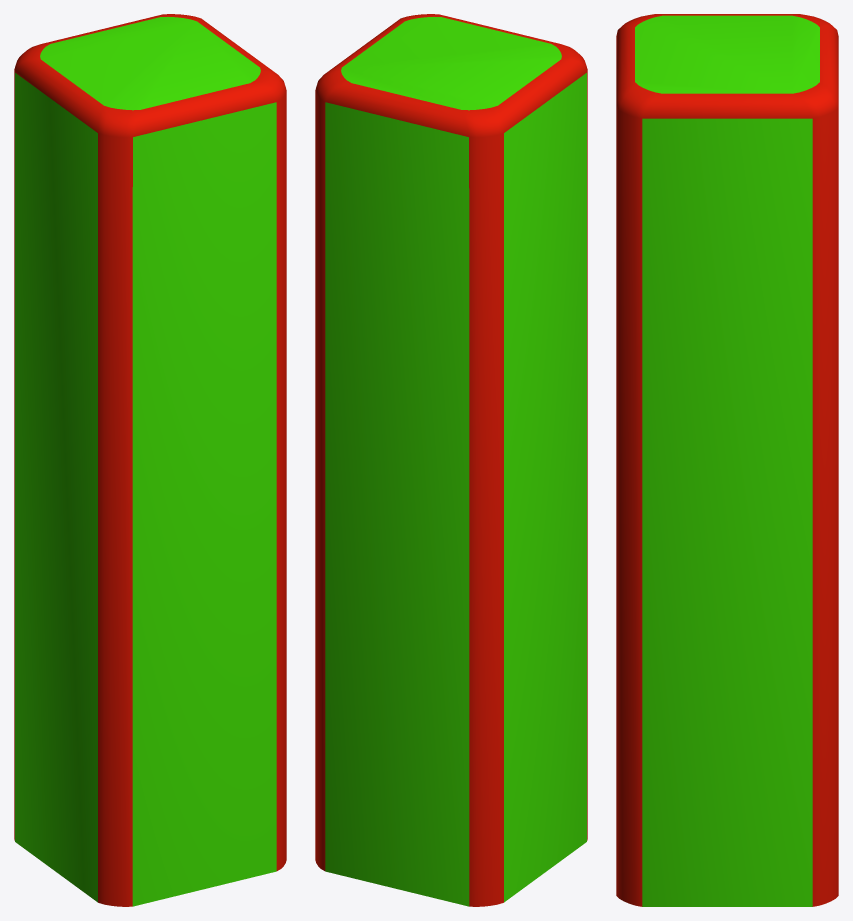
Rendered from UpDownPlatform.fbx.
The picture shows the model from 3 angles, left to right: view 1: azimuth 30°, elevation 25°; view 2: azimuth 150°, elevation 25°; view 3: azimuth 270°, elevation 25°; orthographic projection. The views are drawn at different scales.
Parts seen in each view (by area): view 1: UpDown_Platform; view 2: UpDown_Platform; view 3: UpDown_Platform.
Part boxes in pixels (box(x1,y1,x2,y2)): UpDown_Platform: box(14, 14, 286, 906); UpDown_Platform: box(315, 14, 587, 906); UpDown_Platform: box(616, 14, 838, 906).
Bounding box in the file's own units: 300 × 1200 × 300.
